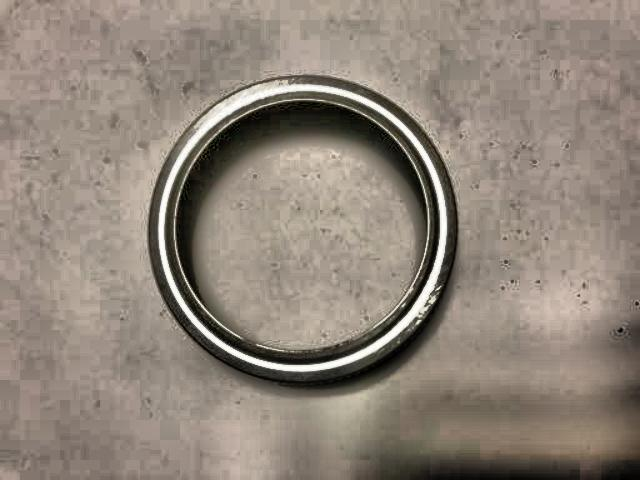Almennt: (83, 30, 513, 422)
